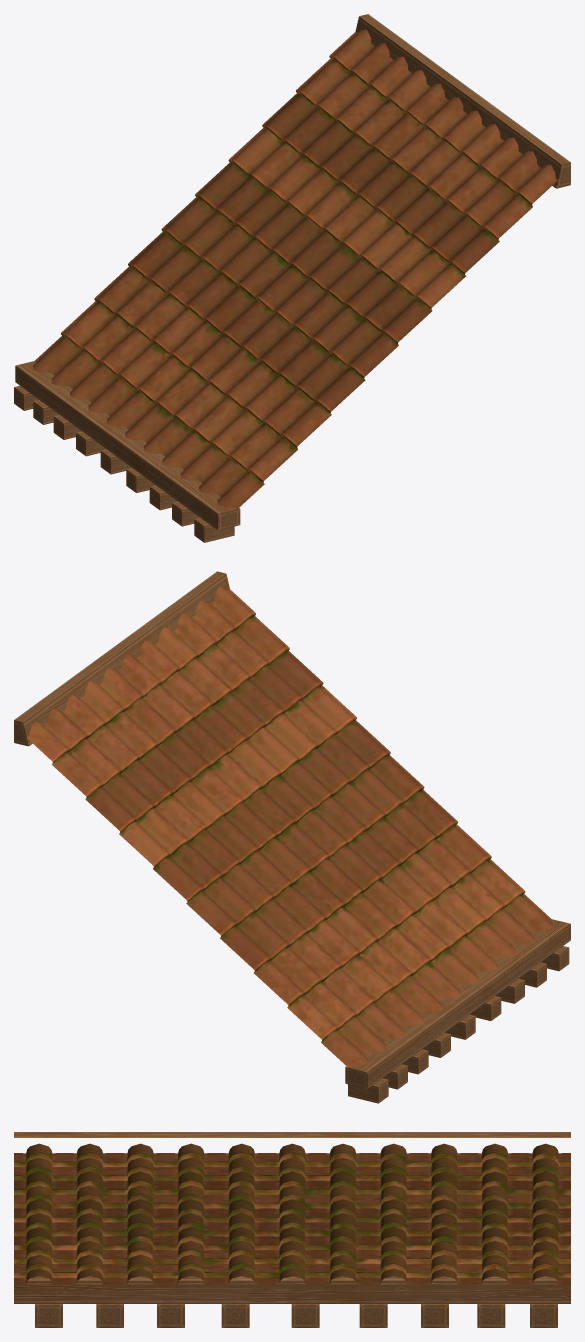
File: SM_Roof_02_rbrown.glb
The picture shows the model from 3 angles, top to bottom: view 1: azimuth 30°, elevation 25°; view 2: azimuth 150°, elevation 25°; view 3: azimuth 270°, elevation 25°; orthographic projection. The views are drawn at different scales.
Parts seen in each view (by area): view 1: SM_Roof_02; view 2: SM_Roof_02; view 3: SM_Roof_02.
Boxes of the visible parts, x1,y1,x2,y2 form: SM_Roof_02: (14,14,570,542); SM_Roof_02: (14,571,570,1103); SM_Roof_02: (14,1132,570,1327).
Bounding box in the file's own units: 4.09 × 3.25 × 4.
2 materials, 2 textured.
